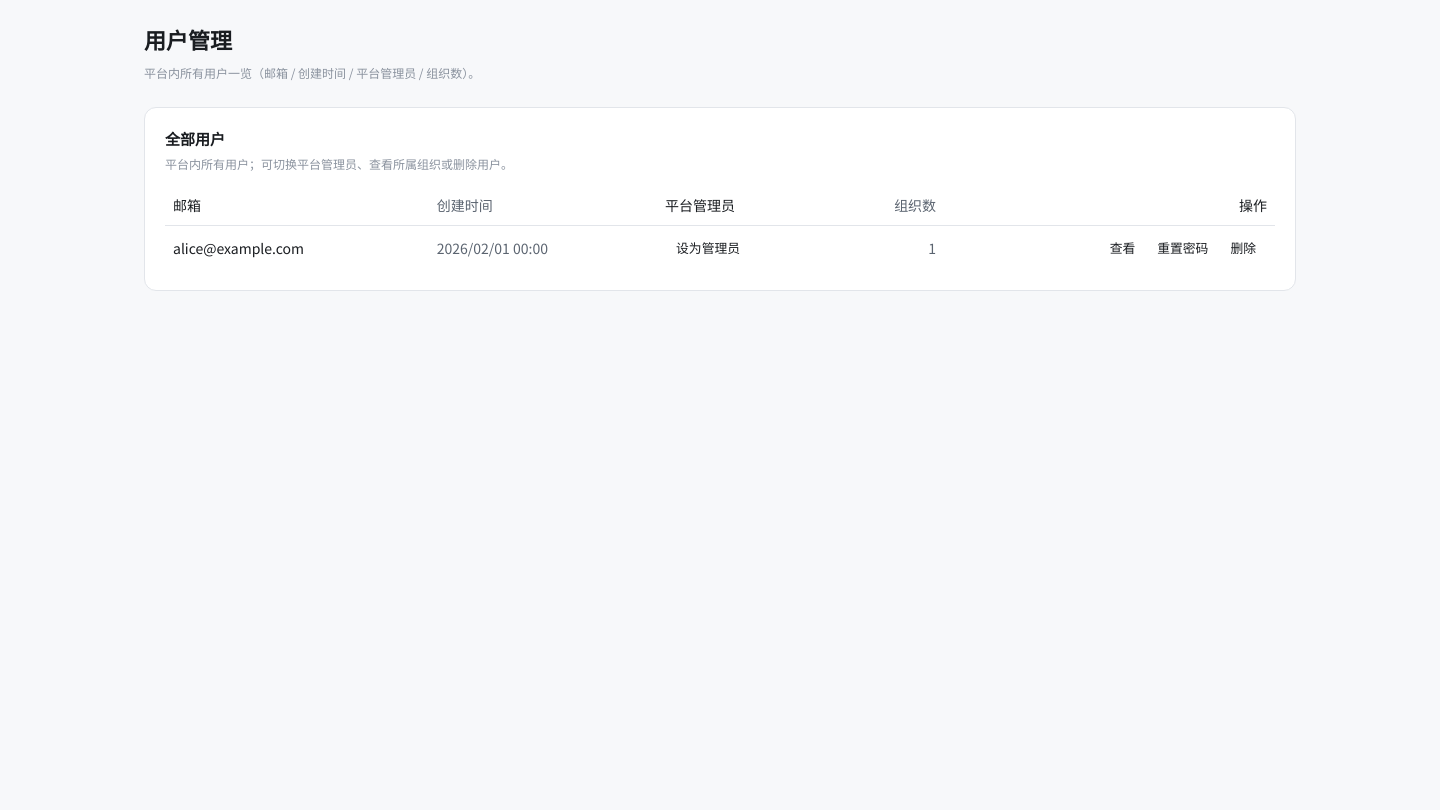
it: AllUsersPage › opens the detail dialog with org list and soleOrgAdmin warning
Click the button with aria-label "查看 alice@example.com": (1122, 248) x1=1099 y1=234 x2=1146 y2=262
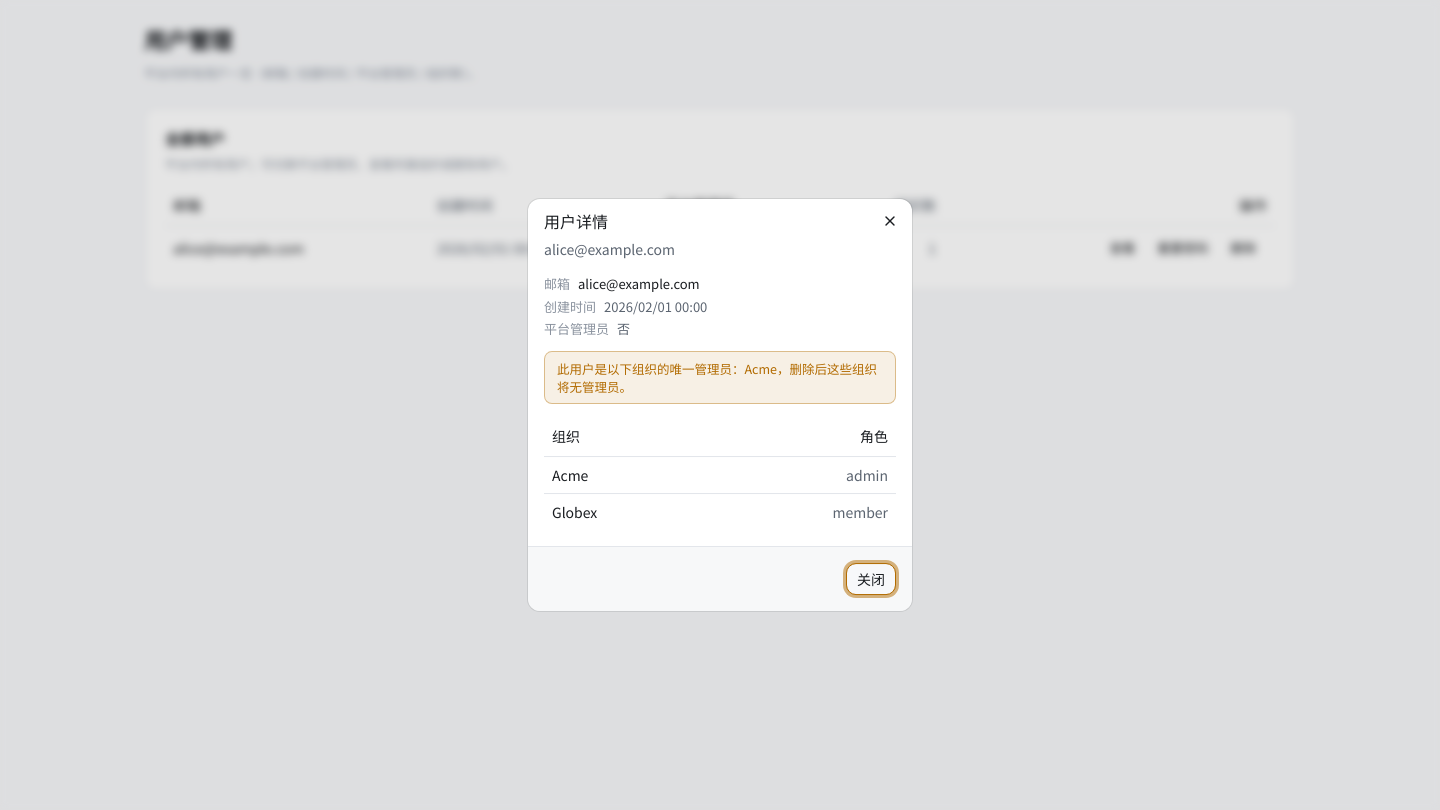
Now the heading "用户详情" is shown, box x1=544 y1=212 x2=608 y2=233
Now the text "Acme" is shown, box x1=544 y1=456 x2=706 y2=493
Now the text "Globex" is shown, box x1=544 y1=493 x2=706 y2=530
